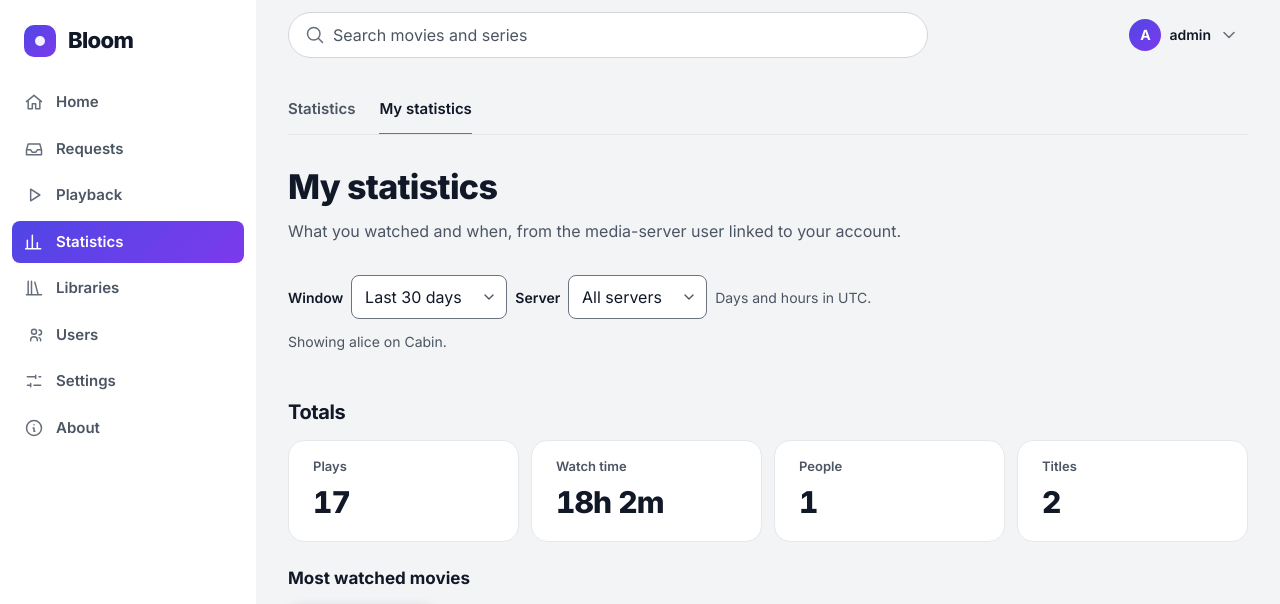
Test: picks the server when several users are linked
Expected: the text "Showing alice on Cabin." is shown, [288,333,447,350]
Select "Living room" in the dropdown labelled "Server" at (638, 297), box [568,275,707,319]
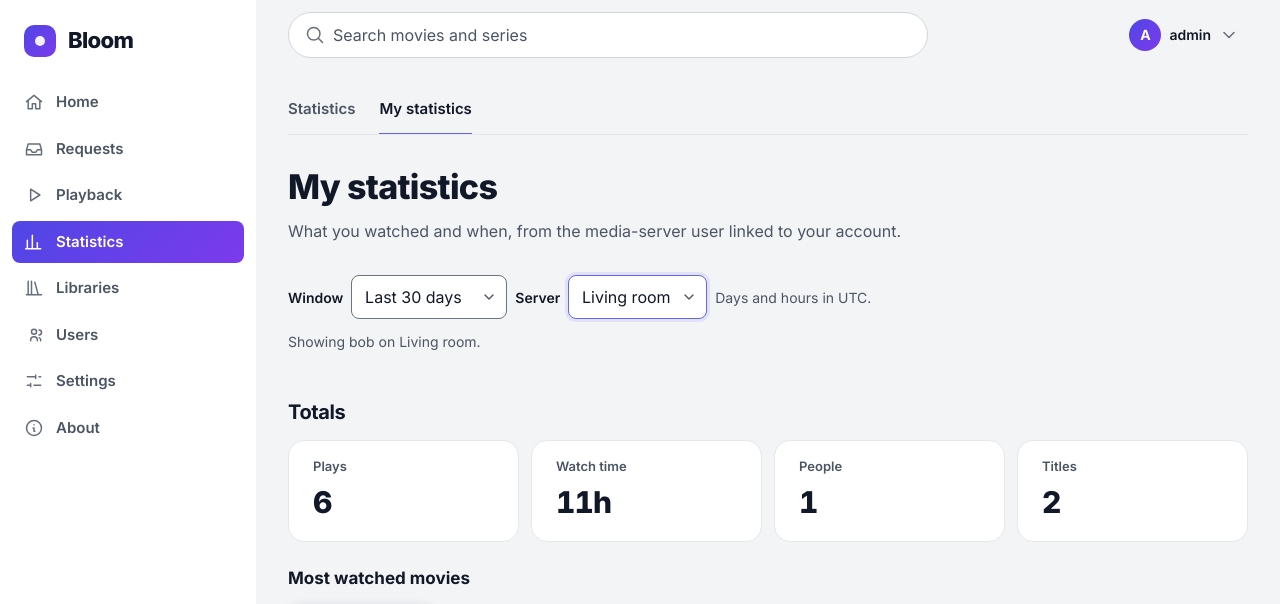
Expected: the text "Showing bob on Living room." is shown, [288,333,481,350]
